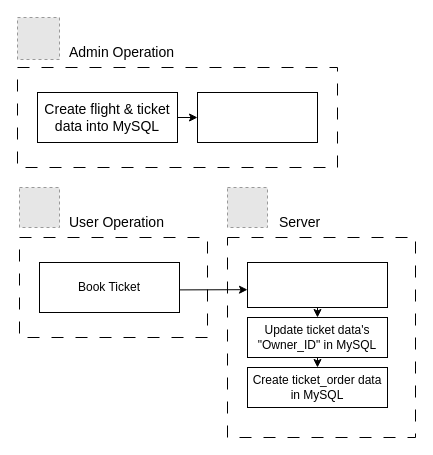
Image size: 433x455. Some labels were removed from this diagram. Grey dashed boxes stand in for pictures. The shapes that lost their labels are listed below. From the top down, each one's box as (x1, y1, x2, y2) in pixels, then its label:
(196, 92, 318, 142): Cache ticket data into Redis
(246, 262, 388, 308): Redis run Lua script Check available ticket
